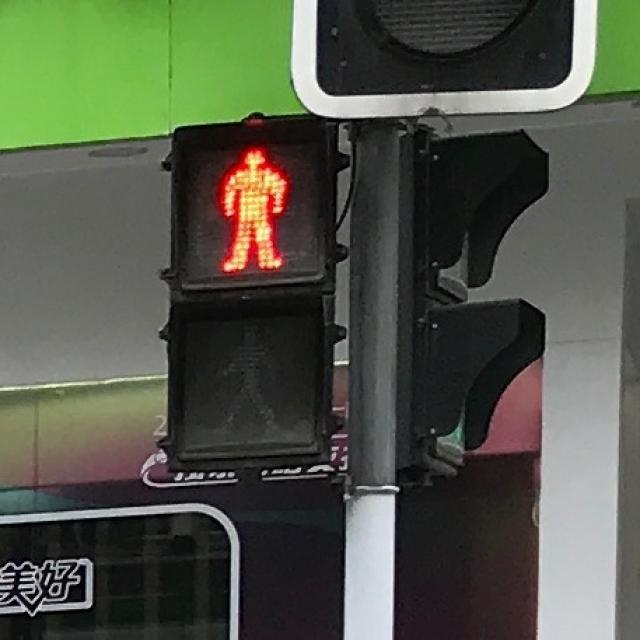red-crossing: (205, 134, 292, 270)
